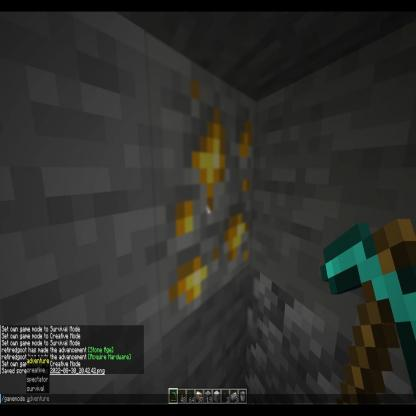gold ore: (144, 29, 260, 343)
